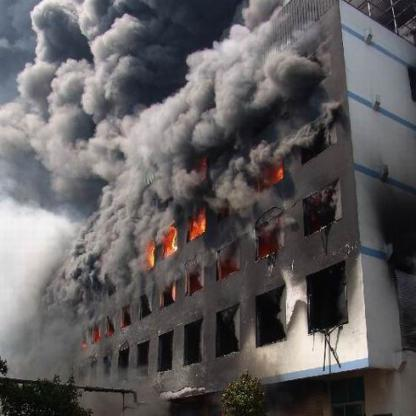fire: (187, 208, 208, 238), (161, 226, 176, 253), (272, 166, 284, 180), (148, 238, 152, 267)
